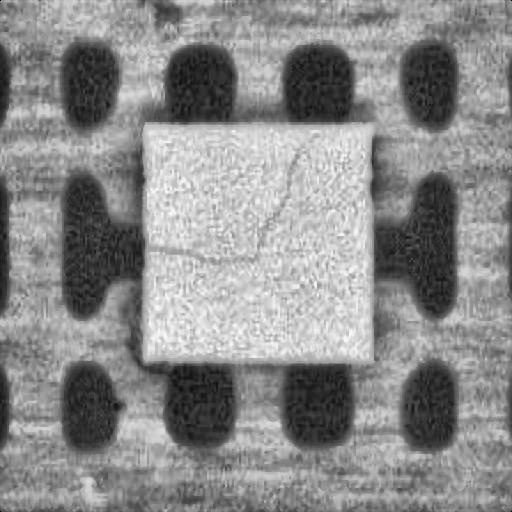DIE_CRACK: (145, 127, 319, 260)
